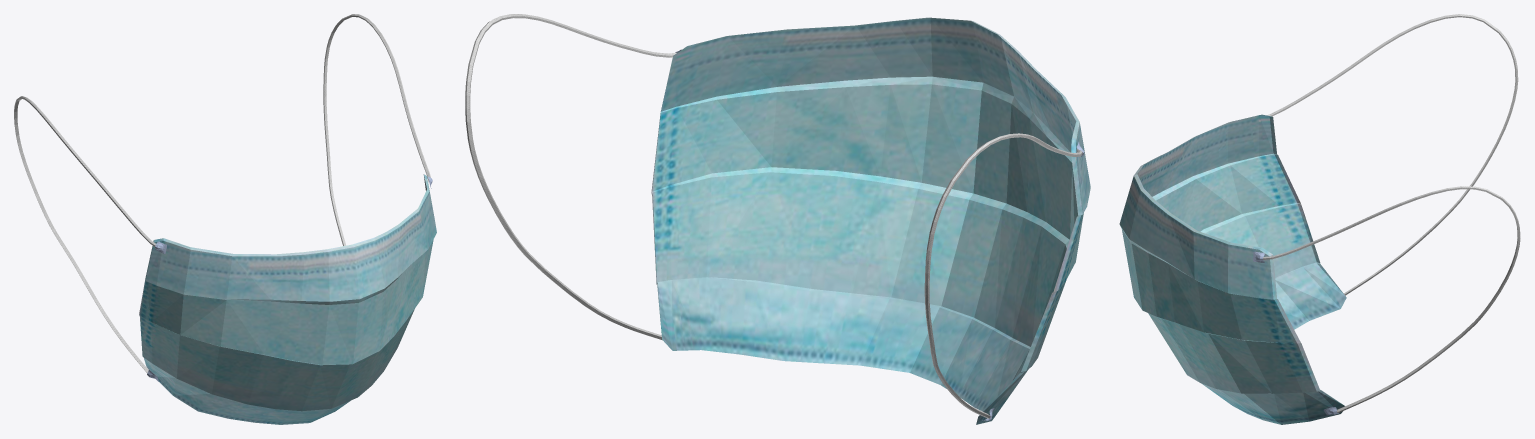
Rendered from Surgical Mask PBR Lowpoly ARVR Ready Model.fbx.
The picture shows the model from 3 angles, left to right: view 1: azimuth 30°, elevation 25°; view 2: azimuth 150°, elevation 25°; view 3: azimuth 270°, elevation 25°; orthographic projection. The views are drawn at different scales.
Parts seen in each view (by area): view 1: Mask_Covid_Mask_Texture_0; view 2: Mask_Covid_Mask_Texture_0; view 3: Mask_Covid_Mask_Texture_0.
Boxes of the visible parts, bbox=[...] form: Mask_Covid_Mask_Texture_0: bbox=[14, 14, 436, 424]; Mask_Covid_Mask_Texture_0: bbox=[465, 14, 1090, 424]; Mask_Covid_Mask_Texture_0: bbox=[1119, 14, 1520, 424].
Size of the model in its own units: 15.96 by 12.56 by 15.57.
1 material, 1 textured.
